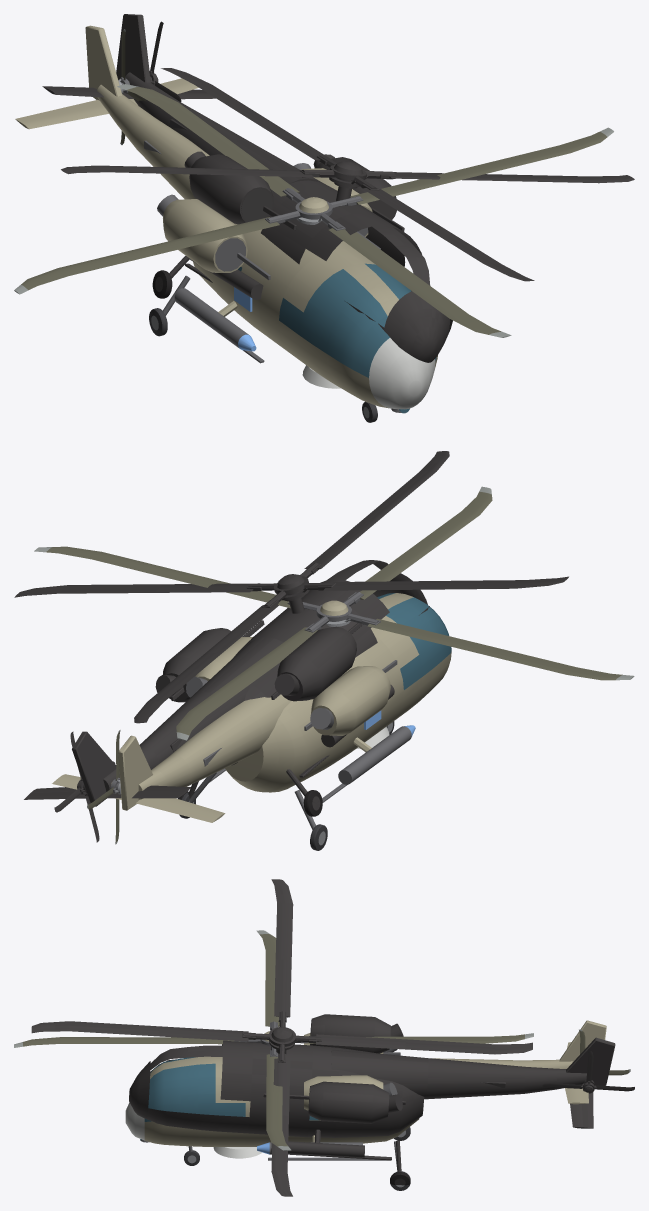
Rendered from navalHelicopter__sh_2g_super_seasprite.glb.
3 renders of one model, top to bottom at view 1: azimuth 30°, elevation 25°; view 2: azimuth 150°, elevation 25°; view 3: azimuth 270°, elevation 25°, orthographic. The views are drawn at different scales.
Visible parts, largest first — view 1: Wreck, Fuselage_Mesh, Rotor_Main_Mesh, Engines_Mesh, Naval_Mission_Kit_Mesh, Landing_Gear_Mesh; view 2: Wreck, Fuselage_Mesh, Rotor_Main_Mesh, Engines_Mesh, Naval_Mission_Kit_Mesh, Landing_Gear_Mesh, Rotor_Tail_Mesh; view 3: Wreck, Fuselage_Mesh, Rotor_Main_Mesh, Engines_Mesh, Landing_Gear_Mesh, Radar_Mesh.
Part boxes in pixels (box(x1,y1,x2,y2)): Wreck: box(42, 14, 634, 362); Fuselage_Mesh: box(15, 25, 437, 413); Rotor_Main_Mesh: box(14, 84, 613, 337); Engines_Mesh: box(157, 163, 372, 272); Naval_Mission_Kit_Mesh: box(174, 288, 256, 351); Landing_Gear_Mesh: box(149, 275, 377, 422); Wreck: box(14, 451, 568, 842); Fuselage_Mesh: box(52, 593, 451, 822); Rotor_Main_Mesh: box(34, 486, 634, 740); Engines_Mesh: box(186, 637, 390, 735); Naval_Mission_Kit_Mesh: box(338, 725, 415, 784); Landing_Gear_Mesh: box(179, 721, 394, 850); Rotor_Tail_Mesh: box(87, 730, 121, 844); Wreck: box(31, 879, 634, 1196); Fuselage_Mesh: box(125, 1020, 606, 1160); Rotor_Main_Mesh: box(14, 930, 533, 1150); Engines_Mesh: box(304, 1032, 397, 1110); Landing_Gear_Mesh: box(184, 1127, 410, 1190); Radar_Mesh: box(213, 1147, 261, 1158).
Size of what is drawn, in the model's own units: 13.94 by 5.65 by 16.12.
